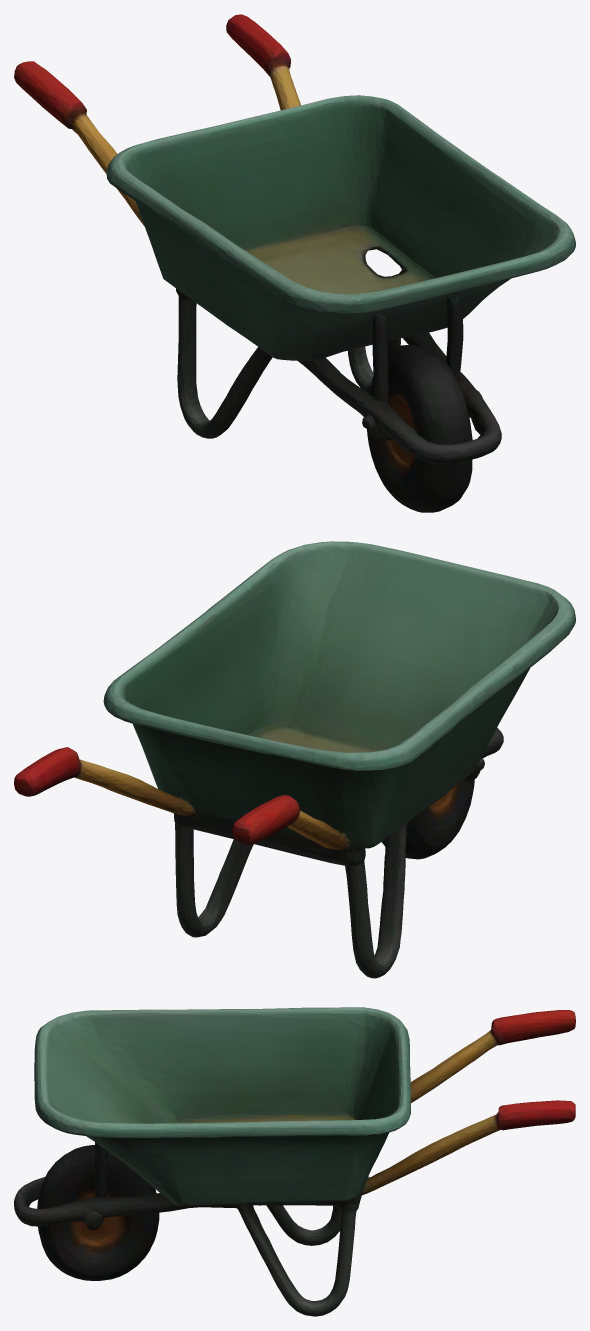
Rendered from wheelbarrow.glb.
3 views of the same model, one above another, from view 1: azimuth 30°, elevation 25°; view 2: azimuth 150°, elevation 25°; view 3: azimuth 270°, elevation 25° (orthographic). The views are drawn at different scales.
Visible parts, largest first — view 1: world; view 2: world; view 3: world.
Part boxes in pixels (bbox=[...]): world: bbox=[14, 14, 575, 512]; world: bbox=[14, 541, 575, 978]; world: bbox=[14, 1007, 575, 1316].
Bounding box in the file's own units: 0.5104 × 0.4424 × 0.9992.
Materials: 1 (1 with a texture image).
